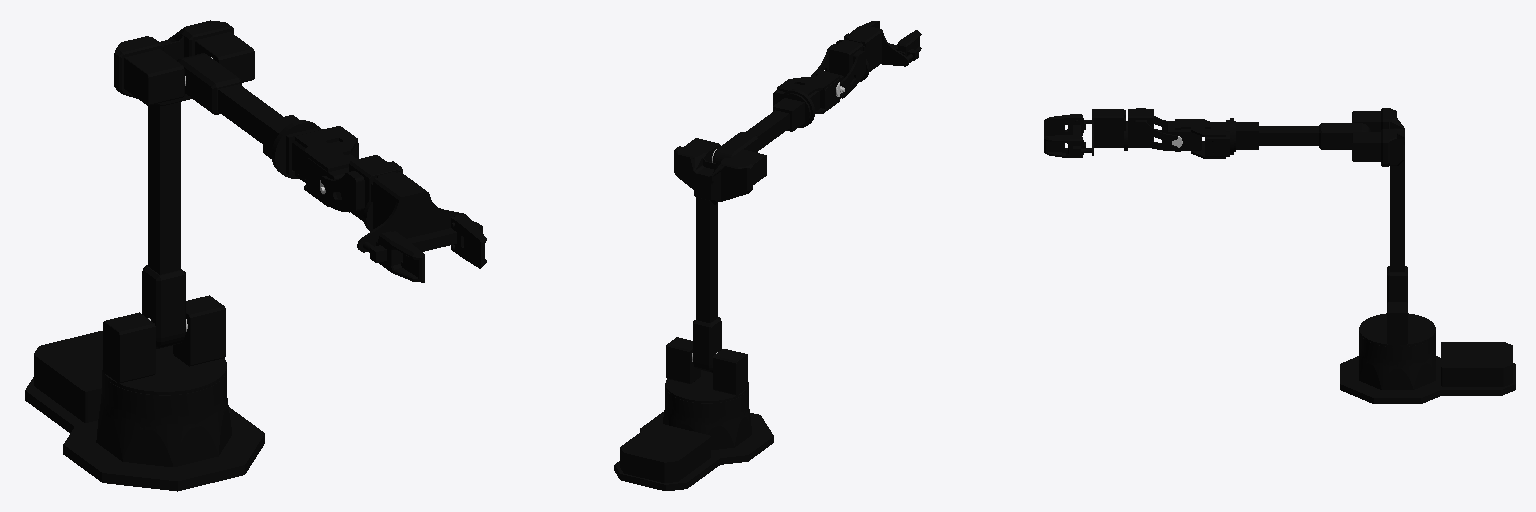
The robot description file, URDF, robot "wx250":
<?xml version="1.0" ?>
<!-- =================================================================================== -->
<!-- |    This document was autogenerated by xacro from wx250.urdf.xacro               | -->
<!-- |    EDITING THIS FILE BY HAND IS NOT RECOMMENDED                                 | -->
<!-- =================================================================================== -->
<robot name="wx250">
  <link name="world"/>
  <joint name="base_link_joint" type="fixed">
    <origin rpy="0 0 0" xyz="0 0 0"/>
    <parent link="world"/>
    <child link="base_link"/>
  </joint>
  <link name="base_link">
    <visual>
      <geometry>
        <mesh filename="package://wx250s_description/meshes/DAE/base/base.dae"/>
      </geometry>
    </visual>
    <collision>
      <geometry>
        <mesh filename="package://wx250s_description/meshes/STL/base/base.stl"/>
      </geometry>
    </collision>
    <inertial>
      <origin xyz="0 0 0"/>
      <mass value="27"/>
      <inertia ixx="2.91" ixy="0" ixz="0" iyy="18.03" iyz="0" izz="20.95"/>
    </inertial>
    <surface>
      <friction>
        <ode>
          <mu>0.8</mu>
          <mu2>0.8</mu2>
          <kp>1e15</kp>
          <kd>1e13</kd>
        </ode>
      </friction>
      <bounce>
        <restitution_coefficient>0.01</restitution_coefficient>
        <threshold>10</threshold>
      </bounce>
      <contact>
        <ode>
          <max_vel>0.01</max_vel>
          <minDepth>0</minDepth>
          <contact_surface_layer>0</contact_surface_layer>
        </ode>
      </contact>
    </surface>
  </link>
  <joint name="waist" type="revolute">
    <origin rpy="0 0 0" xyz="0.0 0.0 0.069"/>
    <parent link="base_link"/>
    <child link="sholder_link"/>
    <limit effort="100" lower="-3.14" upper="3.14" velocity="100"/>
    <dynamics damping="0.1" friction="0.1"/>
    <axis xyz="0 0 1"/>
  </joint>
  <link name="sholder_link">
    <visual>
      <geometry>
        <mesh filename="package://wx250s_description/meshes/DAE/shoulder/shoulder.dae"/>
      </geometry>
    </visual>
    <collision>
      <geometry>
        <mesh filename="package://wx250s_description/meshes/STL/shoulder/shoulder.stl"/>
      </geometry>
    </collision>
    <inertial>
      <origin xyz="0.0000223482 0.0000414609 0.0066287000"/>
      <mass value="0.480879"/>
      <inertia ixx="0.222" ixy="0" ixz="0" iyy="0.395" iyz="0" izz="0.222"/>
    </inertial>
    <surface>
      <friction>
        <ode>
          <mu1>1.2</mu1>
          <mu2>1.2</mu2>
          <kp>1e15</kp>
          <kd>1e13</kd>
        </ode>
      </friction>
      <bounce>
        <restitution_coefficient>0.01</restitution_coefficient>
        <threshold>0</threshold>
      </bounce>
      <contact>
        <ode>
          <max_vel>10</max_vel>
        </ode>
      </contact>
    </surface>
  </link>
  <joint name="sholder" type="revolute">
    <origin rpy="0 0 0" xyz="0.0 0.0 0.03865"/>
    <parent link="sholder_link"/>
    <child link="upper_arm_link"/>
    <limit effort="100" lower="-3.14" upper="3.14" velocity="100"/>
    <dynamics damping="0.1" friction="0.1"/>
    <axis xyz="1 0 0"/>
  </joint>
  <link name="upper_arm_link">
    <visual>
      <geometry>
        <mesh filename="package://wx250s_description/meshes/DAE/upper_arm/upper_arm.dae"/>
      </geometry>
    </visual>
    <collision>
      <geometry>
        <mesh filename="package://wx250s_description/meshes/STL/upper_arm/upper_arm.stl"/>
      </geometry>
    </collision>
    <inertial>
      <origin xyz="0.0 0.0 0.0"/>
      <mass value="0.298"/>
      <inertia ixx="0.002176" ixy="-0.0000030658" ixz="0.0" iyy="0.00005757" iyz="0.0" izz="0.002186"/>
    </inertial>
    <surface>
      <friction>
        <ode>
          <mu1>1.2</mu1>
          <mu2>1.2</mu2>
          <kp>1e15</kp>
          <kd>1e13</kd>
        </ode>
      </friction>
      <bounce>
        <restitution_coefficient>0.01</restitution_coefficient>
        <threshold>0</threshold>
      </bounce>
      <contact>
        <ode>
          <max_vel>10</max_vel>
        </ode>
      </contact>
    </surface>
  </link>
  <joint name="elbow" type="revolute">
    <origin rpy="0 0 -1.57079637" xyz="0 -0.04975 0.25"/>
    <parent link="upper_arm_link"/>
    <child link="upper_forearm_link"/>
    <limit effort="100" lower="-3.14" upper="3.14" velocity="100"/>
    <dynamics damping="0.1" friction="0.1"/>
    <axis xyz="0 1 0"/>
  </joint>
  <link name="upper_forearm_link">
    <visual>
      <geometry>
        <mesh filename="package://wx250s_description/meshes/DAE/upper_forearm/upper_forearm.dae"/>
      </geometry>
    </visual>
    <collision>
      <geometry>
        <mesh filename="package://wx250s_description/meshes/STL/upper_forearm/upper_forearm.stl"/>
      </geometry>
    </collision>
    <inertial>
      <origin xyz="0.1079630000 0.0001158760 0"/>
      <mass value="0.234589"/>
      <inertia ixx="0.00003971" ixy="0.0000023528" ixz="0.0" iyy="0.0008878" iyz="0.0" izz="0.000888"/>
    </inertial>
    <surface>
      <friction>
        <ode>
          <mu1>1.2</mu1>
          <mu2>1.2</mu2>
          <kp>1e15</kp>
          <kd>1e13</kd>
        </ode>
      </friction>
      <bounce>
        <restitution_coefficient>0.01</restitution_coefficient>
        <threshold>0</threshold>
      </bounce>
      <contact>
        <ode>
          <max_vel>10</max_vel>
        </ode>
      </contact>
    </surface>
  </link>
  <joint name="forearm_roll" type="revolute">
    <origin rpy="3.14159274 0 0" xyz="0.171 0 0"/>
    <parent link="upper_forearm_link"/>
    <child link="lower_forearm_link"/>
    <limit effort="100" lower="-3.14" upper="3.14" velocity="100"/>
    <dynamics damping="0.1" friction="0.1"/>
    <axis xyz="1 0 0"/>
  </joint>
  <link name="lower_forearm_link">
    <visual>
      <geometry>
        <mesh filename="package://wx250s_description/meshes/DAE/lower_forearm/lower_forearm.dae"/>
      </geometry>
    </visual>
    <collision>
      <geometry>
        <mesh filename="package://wx250s_description/meshes/STL/lower_forearm/lower_forearm.stl"/>
      </geometry>
    </collision>
    <inertial>
      <origin xyz="0.0374395000 0.0052225200 0"/>
      <mass value="0.220991"/>
      <inertia ixx="0.00006369" ixy="-0.00002292" ixz="0.0" iyy="0.0001677" iyz="0.0" izz="0.0001834"/>
    </inertial>
    <surface>
      <friction>
        <ode>
          <mu1>1.2</mu1>
          <mu2>1.2</mu2>
          <kp>1e15</kp>
          <kd>1e13</kd>
        </ode>
      </friction>
      <bounce>
        <restitution_coefficient>0.01</restitution_coefficient>
        <threshold>0</threshold>
      </bounce>
      <contact>
        <ode>
          <max_vel>10</max_vel>
        </ode>
      </contact>
    </surface>
  </link>
  <joint name="wrist_angle" type="revolute">
    <origin rpy="0 3.14159274 1.57079637" xyz="0.075 0 0"/>
    <parent link="lower_forearm_link"/>
    <child link="wrist_link"/>
    <limit effort="100" lower="-3.14" upper="3.14" velocity="100"/>
    <dynamics damping="0.1" friction="0.1"/>
    <axis xyz="1 0 0"/>
  </joint>
  <link name="wrist_link">
    <visual>
      <geometry>
        <mesh filename="package://wx250s_description/meshes/DAE/wrist/wrist.dae"/>
      </geometry>
    </visual>
    <collision>
      <geometry>
        <mesh filename="package://wx250s_description/meshes/STL/wrist/wrist.stl"/>
      </geometry>
    </collision>
    <inertial>
      <origin xyz="0.0 0.0 0.0"/>
      <mass value="0.085"/>
      <inertia ixx="0.00003082" ixy="0.0000000191" ixz="0.0000000023" iyy="0.00002822" iyz="0.0000025481" izz="0.00003152"/>
    </inertial>
    <surface>
      <friction>
        <ode>
          <mu1>1.2</mu1>
          <mu2>1.2</mu2>
          <kp>1e15</kp>
          <kd>1e13</kd>
        </ode>
      </friction>
      <bounce>
        <restitution_coefficient>0.01</restitution_coefficient>
        <threshold>0</threshold>
      </bounce>
      <contact>
        <ode>
          <max_vel>10</max_vel>
        </ode>
      </contact>
    </surface>
  </link>
  <joint name="wrist_rotate" type="revolute">
    <origin rpy="0 0 0" xyz="0 -0.161 0"/>
    <parent link="wrist_link"/>
    <child link="gripper_link"/>
    <limit effort="100" lower="-3.14" upper="3.14" velocity="100"/>
    <dynamics damping="0.1" friction="0.1"/>
    <axis xyz="0 1 0"/>
  </joint>
  <link name="gripper_link">
    <visual>
      <geometry>
        <mesh filename="package://wx250s_description/meshes/DAE/gripper/gripper.dae"/>
      </geometry>
    </visual>
    <collision>
      <geometry>
        <mesh filename="package://wx250s_description/meshes/STL/gripper/gripper.stl"/>
      </geometry>
    </collision>
    <inertial>
      <origin xyz="0.0 0.0 0.0"/>
      <mass value="0.25"/>
      <inertia ixx="0.00002537" ixy="0.0" ixz="0.0" iyy="0.00001836" iyz="0.000000434" izz="0.00001674"/>
    </inertial>
    <surface>
      <friction>
        <ode>
          <mu1>1.2</mu1>
          <mu2>1.2</mu2>
          <kp>1e15</kp>
          <kd>1e13</kd>
        </ode>
      </friction>
      <bounce>
        <restitution_coefficient>0.01</restitution_coefficient>
        <threshold>0</threshold>
      </bounce>
      <contact>
        <ode>
          <max_vel>10</max_vel>
        </ode>
      </contact>
    </surface>
  </link>
  <joint name="gripper_bar" type="fixed">
    <origin rpy="0 0 0" xyz="0 0 0"/>
    <parent link="gripper_link"/>
    <child link="gripper_bar_link"/>
  </joint>
  <link name="gripper_bar_link">
    <visual>
      <geometry>
        <mesh filename="package://wx250s_description/meshes/DAE/gripper_bar/gripper_bar.dae"/>
      </geometry>
    </visual>
    <collision>
      <geometry>
        <mesh filename="package://wx250s_description/meshes/STL/gripper_bar/gripper_bar.stl"/>
      </geometry>
    </collision>
    <inertial>
      <origin xyz="0.0 0.0 0.0"/>
      <mass value="0.25"/>
      <inertia ixx="0.00002537" ixy="0.0" ixz="0.0" iyy="0.00001836" iyz="0.000000434" izz="0.00001674"/>
    </inertial>
    <surface>
      <friction>
        <ode>
          <mu1>1.2</mu1>
          <mu2>1.2</mu2>
          <kp>1e15</kp>
          <kd>1e13</kd>
        </ode>
      </friction>
      <bounce>
        <restitution_coefficient>0.01</restitution_coefficient>
        <threshold>0</threshold>
      </bounce>
      <contact>
        <ode>
          <max_vel>10</max_vel>
        </ode>
      </contact>
    </surface>
  </link>
  <joint name="left_finger_joint" type="prismatic">
    <origin rpy="0 0 1.57079637" xyz="0.04 0.03 0"/>
    <parent link="gripper_bar_link"/>
    <child link="left_finger_link"/>
    <limit effort="100" lower="0" upper="0.1" velocity="100"/>
    <dynamics damping="0.005" friction="0.039"/>
    <axis xyz="0 1 0"/>
  </joint>
  <link name="left_finger_link">
    <visual>
      <geometry>
        <mesh filename="package://wx250s_description/meshes/DAE/finger/gripper_finger.dae"/>
      </geometry>
    </visual>
    <collision>
      <geometry>
        <mesh filename="package://wx250s_description/meshes/STL/finger/gripper_finger.stl"/>
      </geometry>
    </collision>
    <inertial>
      <origin xyz="0.0 0.0 0.0"/>
      <mass value="0.016"/>
      <inertia ixx="0.000004731" ixy="-0.000000456" ixz="0.0" iyy="-0.000000456" iyz="0.0" izz="0.0000037467"/>
    </inertial>
    <surface>
      <friction>
        <ode>
          <mu1>1.2</mu1>
          <mu2>1.2</mu2>
          <kp>1e15</kp>
          <kd>1e13</kd>
        </ode>
      </friction>
      <bounce>
        <restitution_coefficient>0.01</restitution_coefficient>
        <threshold>0</threshold>
      </bounce>
      <contact>
        <ode>
          <max_vel>10</max_vel>
        </ode>
      </contact>
    </surface>
  </link>
  <joint name="right_finger_joint" type="prismatic">
    <origin rpy="3.14159274 0 1.57079637" xyz="-0.04 0.03 0"/>
    <parent link="gripper_bar_link"/>
    <child link="right_finger_link"/>
    <limit effort="100" lower="0" upper="0.1" velocity="100"/>
    <dynamics damping="0.005" friction="0.039"/>
    <axis xyz="0 1 0"/>
    <mimic joint="left_finger_joint"/>
  </joint>
  <link name="right_finger_link">
    <visual>
      <geometry>
        <mesh filename="package://wx250s_description/meshes/DAE/finger/gripper_finger.dae"/>
      </geometry>
    </visual>
    <collision>
      <geometry>
        <mesh filename="package://wx250s_description/meshes/STL/finger/gripper_finger.stl"/>
      </geometry>
    </collision>
    <inertial>
      <origin xyz="0.0 0.0 0.0"/>
      <mass value="0.016"/>
      <inertia ixx="0.000004731" ixy="-0.000000456" ixz="0.0" iyy="-0.000000456" iyz="0.0" izz="0.0000037467"/>
    </inertial>
    <surface>
      <friction>
        <ode>
          <mu1>1.2</mu1>
          <mu2>1.2</mu2>
          <kp>1e15</kp>
          <kd>1e13</kd>
        </ode>
      </friction>
      <bounce>
        <restitution_coefficient>0.01</restitution_coefficient>
        <threshold>0</threshold>
      </bounce>
      <contact>
        <ode>
          <max_vel>10</max_vel>
        </ode>
      </contact>
    </surface>
  </link>
  <ros2_control name="FakeSystem" type="system">
    <hardware>
      <!-- By default, set up controllers for simulation. This won't work on real hardware -->
      <plugin>mock_components/GenericSystem</plugin>
    </hardware>
    <joint name="waist">
      <command_interface name="position"/>
      <state_interface name="position">
        <param name="initial_value">0</param>
      </state_interface>
      <state_interface name="velocity"/>
    </joint>
    <joint name="sholder">
      <command_interface name="position"/>
      <state_interface name="position">
        <param name="initial_value">0</param>
      </state_interface>
      <state_interface name="velocity"/>
    </joint>
    <joint name="elbow">
      <command_interface name="position"/>
      <state_interface name="position">
        <param name="initial_value">0</param>
      </state_interface>
      <state_interface name="velocity"/>
    </joint>
    <joint name="forearm_roll">
      <command_interface name="position"/>
      <state_interface name="position">
        <param name="initial_value">0</param>
      </state_interface>
      <state_interface name="velocity"/>
    </joint>
    <joint name="wrist_angle">
      <command_interface name="position"/>
      <state_interface name="position">
        <param name="initial_value">0</param>
      </state_interface>
      <state_interface name="velocity"/>
    </joint>
    <joint name="wrist_rotate">
      <command_interface name="position"/>
      <state_interface name="position">
        <param name="initial_value">0</param>
      </state_interface>
      <state_interface name="velocity"/>
    </joint>
    <joint name="left_finger_joint">
      <command_interface name="position"/>
      <state_interface name="position">
        <param name="initial_value">0</param>
      </state_interface>
      <state_interface name="velocity"/>
    </joint>
  </ros2_control>
</robot>

--- What the picture shows (computed from the rendered views, not written in the file) ---
The picture shows the robot from 3 angles, left to right: view 1: azimuth 30°, elevation 25°; view 2: azimuth 150°, elevation 25°; view 3: azimuth 270°, elevation 25°; orthographic projection.
Robot: wx250 — 11 links, 10 joints (6 revolute, 2 prismatic, 2 fixed); root link world; default pose: all joints at 0.
Visible links, largest first — view 1: base_link, upper_arm_link, sholder_link, upper_forearm_link, lower_forearm_link, gripper_bar_link, wrist_link, gripper_link, right_finger_link, left_finger_link; view 2: base_link, upper_arm_link, sholder_link, upper_forearm_link, lower_forearm_link, wrist_link, gripper_link, gripper_bar_link; view 3: base_link, upper_arm_link, upper_forearm_link, sholder_link, lower_forearm_link, wrist_link, gripper_link, left_finger_link, right_finger_link.
Boxes of the visible links, x1,y1,x2,y2 form: base_link: [25, 331, 264, 491]; upper_arm_link: [114, 20, 254, 348]; sholder_link: [102, 295, 226, 394]; upper_forearm_link: [177, 53, 300, 158]; lower_forearm_link: [272, 120, 358, 206]; gripper_bar_link: [357, 190, 482, 262]; wrist_link: [320, 155, 402, 227]; gripper_link: [365, 172, 424, 231]; right_finger_link: [376, 231, 424, 282]; left_finger_link: [451, 214, 486, 268]; base_link: [614, 387, 773, 490]; upper_arm_link: [674, 138, 766, 372]; sholder_link: [665, 337, 748, 402]; upper_forearm_link: [713, 93, 810, 163]; lower_forearm_link: [773, 70, 844, 127]; wrist_link: [811, 39, 867, 98]; gripper_link: [845, 26, 881, 79]; gripper_bar_link: [836, 25, 918, 66]; base_link: [1340, 333, 1515, 403]; upper_arm_link: [1352, 108, 1407, 302]; upper_forearm_link: [1234, 121, 1370, 151]; sholder_link: [1359, 302, 1435, 346]; lower_forearm_link: [1167, 118, 1233, 158]; wrist_link: [1126, 108, 1177, 150]; gripper_link: [1094, 109, 1125, 150]; left_finger_link: [1044, 135, 1085, 157]; right_finger_link: [1044, 114, 1085, 135].
Bounding box of the posed robot: 0.1531 × 0.6269 × 0.3929 m (x, y, z).
10 mesh visuals loaded from 9 distinct referenced files (9 Collada DAE).